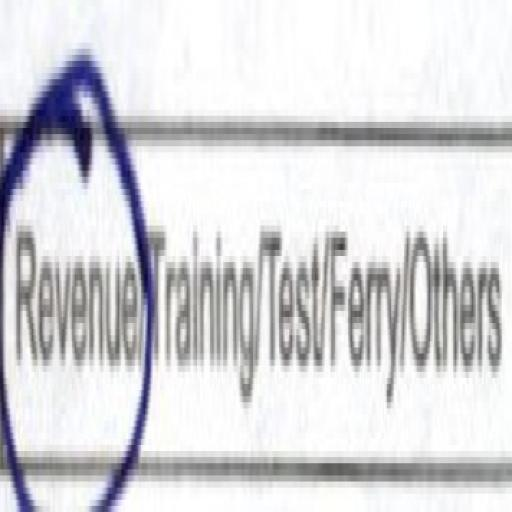check: (0, 6, 138, 512)
